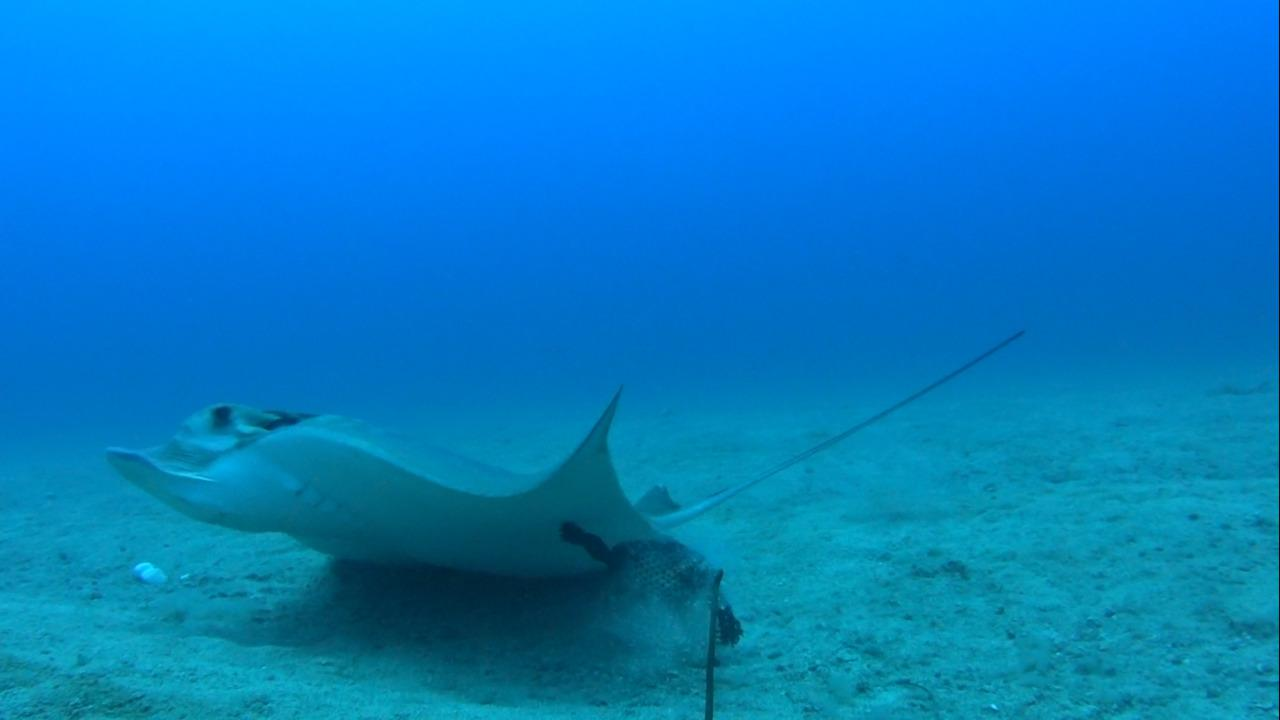myliobatis: (101, 324, 1040, 587)
